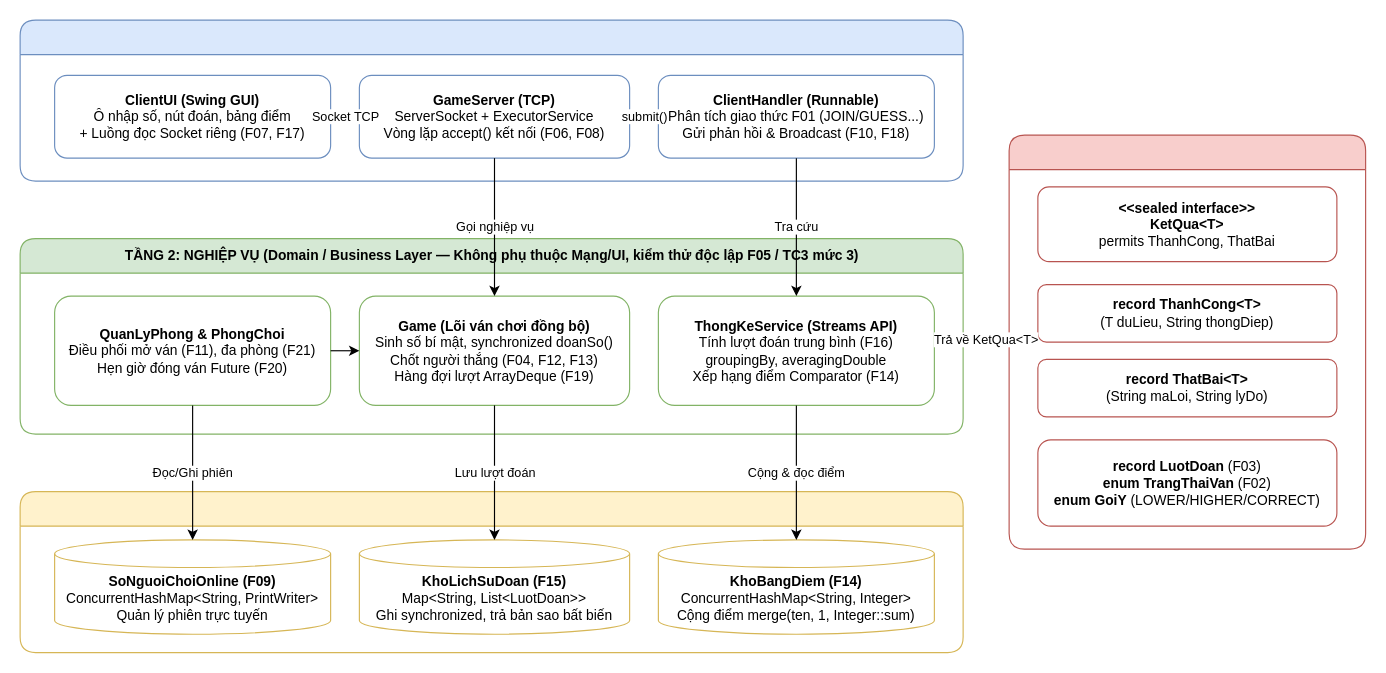
Image size: 1386x673. Some labels were removed from this diagram. Each missing label, with the box of its shape:
KIỂU KẾT QUẢ DÙNG CHUNG (Ch6): (1008, 134, 1366, 549)
TẦNG 1: GIAO DIỆN & MẠNG (UI / Network Layer): (19, 19, 963, 181)
TẦNG 3: LƯU TRỮ TRONG BỘ NHỚ (In-Memory Storage / Repository Layer): (19, 490, 963, 653)
